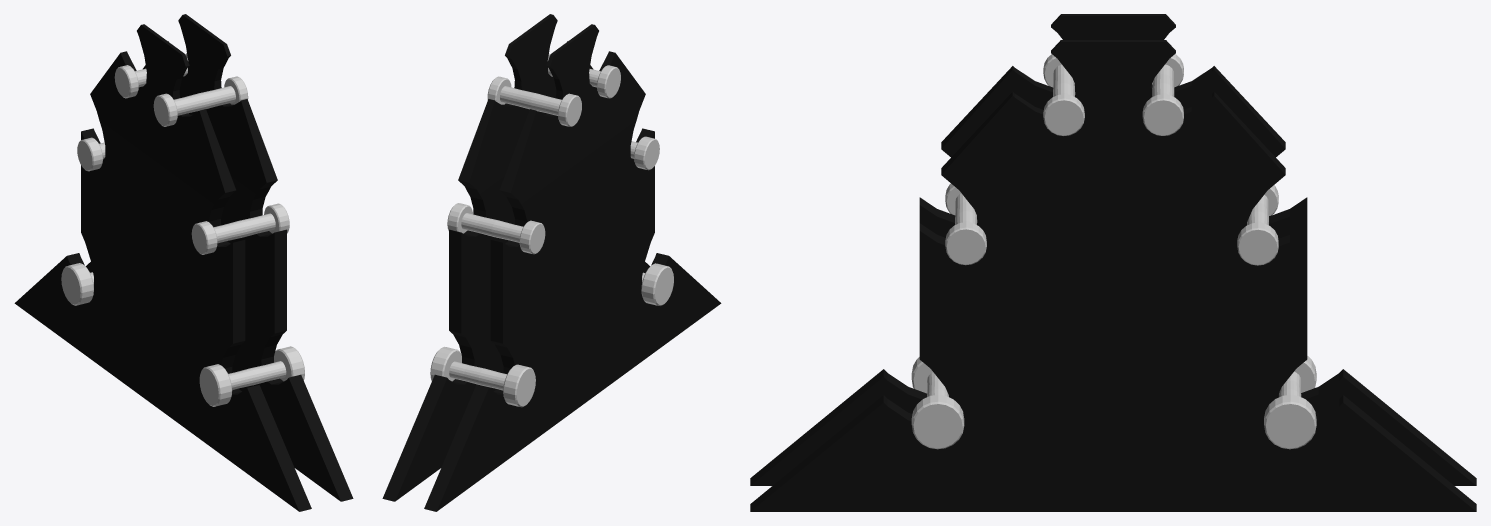
File: ChromeDumbbellSet.fbx
3 views of the same model, side by side, from view 1: azimuth 30°, elevation 25°; view 2: azimuth 150°, elevation 25°; view 3: azimuth 270°, elevation 25° (orthographic). The views are drawn at different scales.
Visible parts, largest first — view 1: ChromeDumbbellSet1; view 2: ChromeDumbbellSet1; view 3: ChromeDumbbellSet1.
Boxes of the visible parts, x1,y1,x2,y2 form: ChromeDumbbellSet1: (14,14,353,511); ChromeDumbbellSet1: (382,14,721,511); ChromeDumbbellSet1: (750,14,1476,511).
Size of the model in its own units: 15.25 by 61.88 by 87.22.
